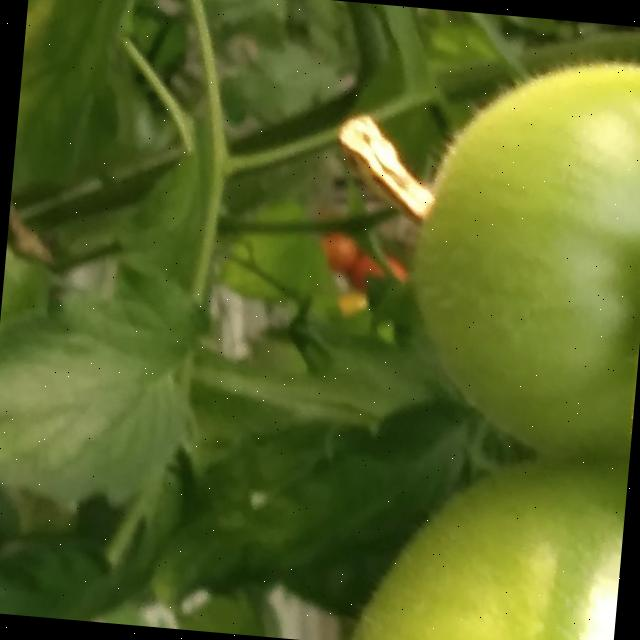tomato: (391, 10, 640, 640)
